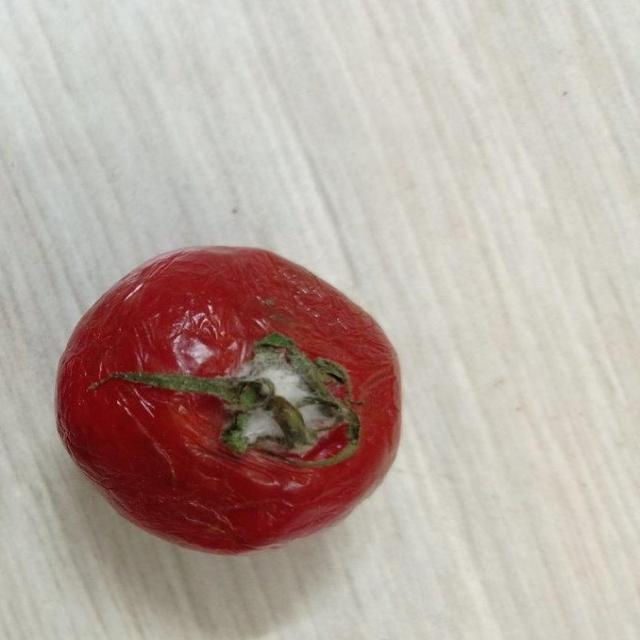overripe: (51, 238, 404, 554)
